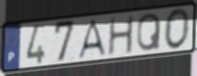4: (25, 22, 47, 66)
7: (53, 19, 77, 65)
A: (76, 18, 108, 61)
H: (107, 14, 135, 57)
O: (163, 7, 191, 51)
Q: (136, 12, 163, 53)
